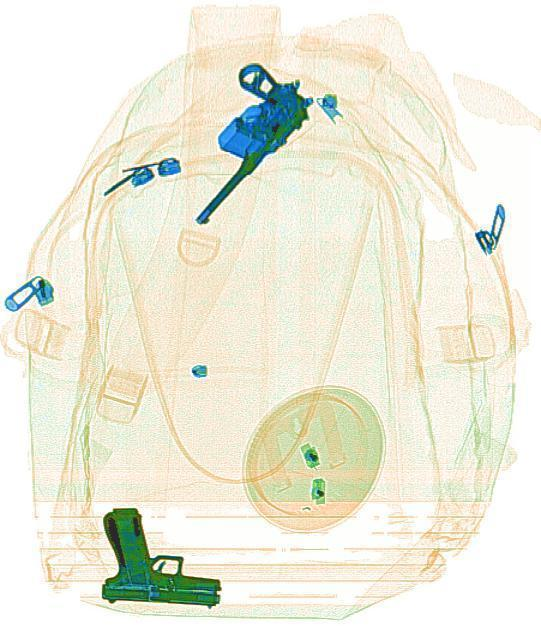Gun: (147, 45, 321, 236), (95, 506, 223, 608)
